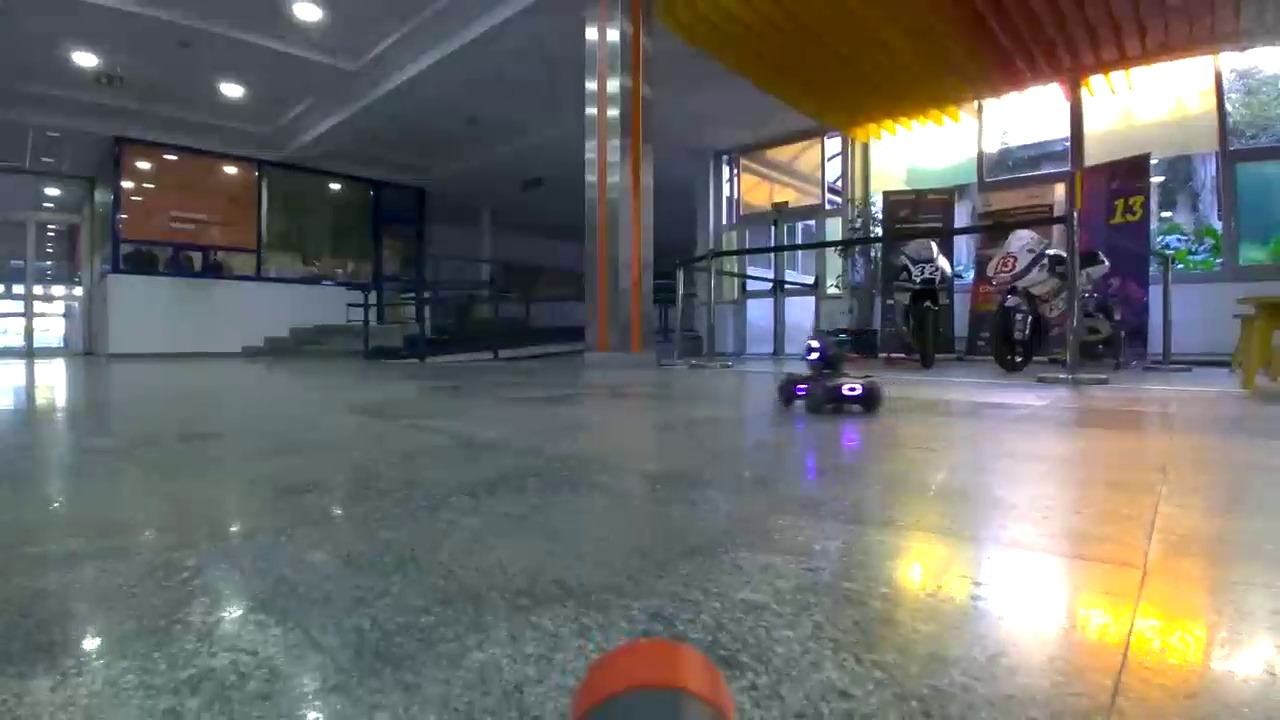robot: (778, 335, 885, 415)
